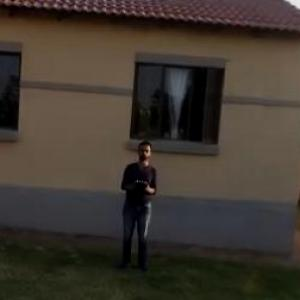follow: (112, 131, 159, 275)
